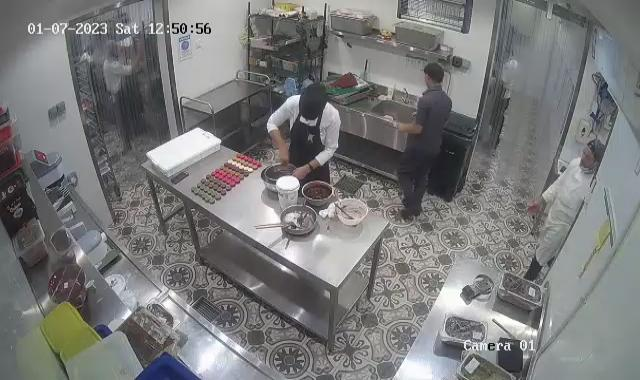no_hairnet: (298, 81, 330, 121), (423, 61, 446, 88)
